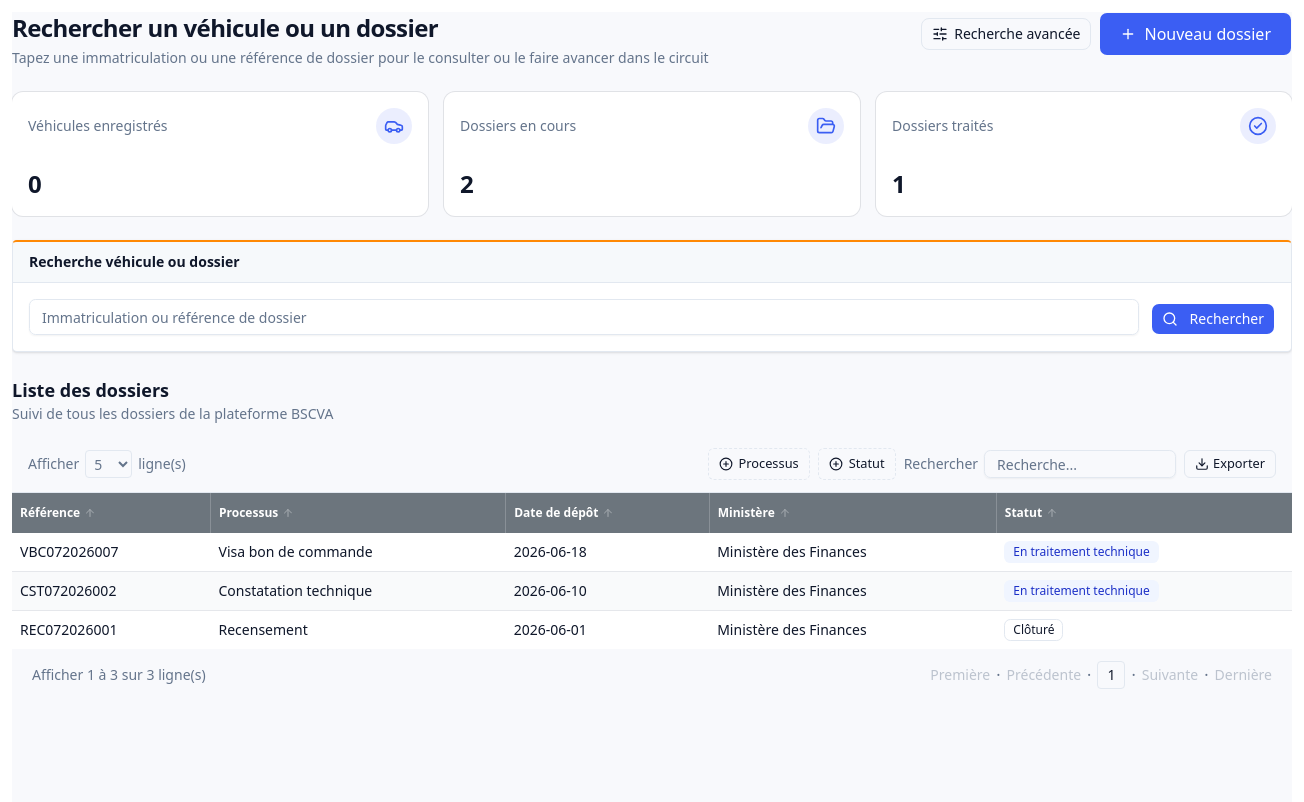
it: TraitementDossierPage — recherche par référence unique › shows the dossier row and a Traiter button for a known reference
This screenshot has width=1304, height=802.
Type "CST072026002" into the field with test id "traitement-dossier-search-input". click: (584, 317)
box: left=29, top=299, right=1139, bottom=335
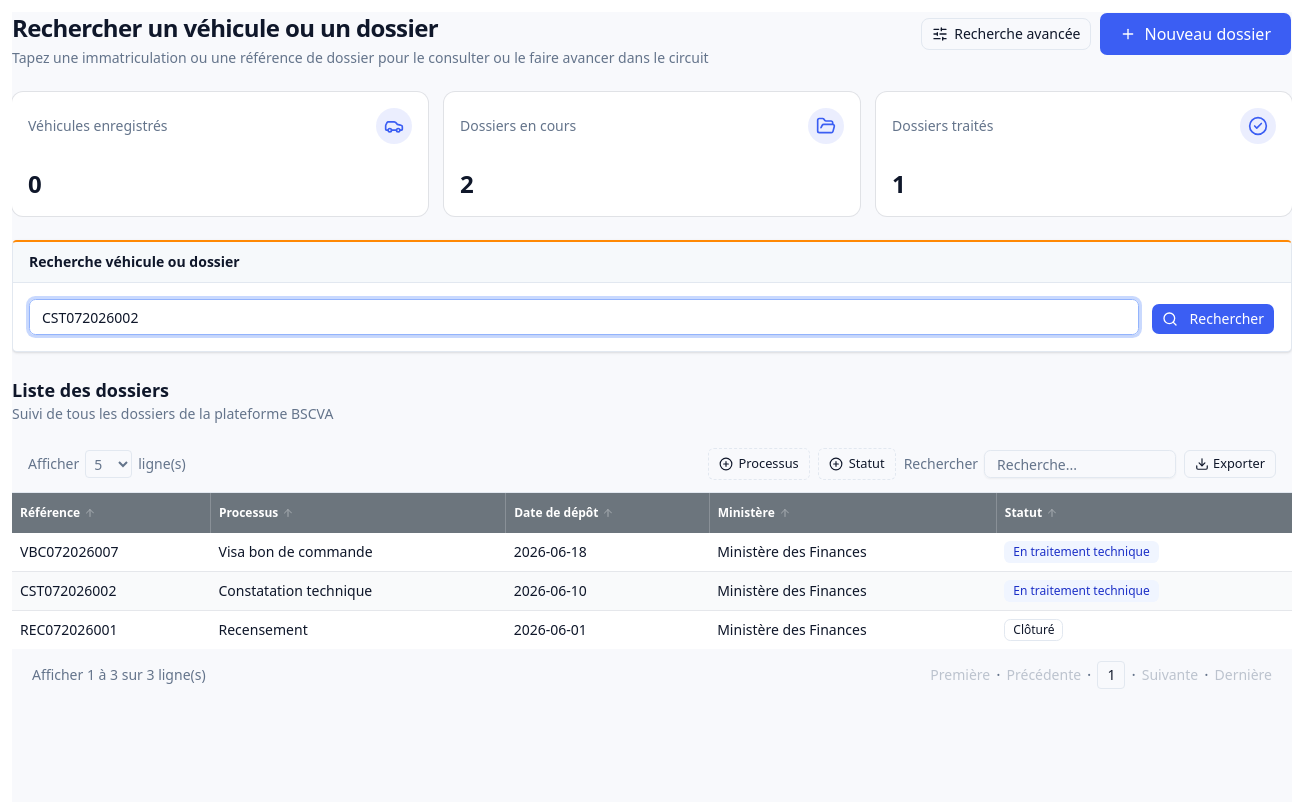
Click the button with test id "traitement-dossier-search-button". click: (1213, 319)
box: left=1151, top=303, right=1275, bottom=335
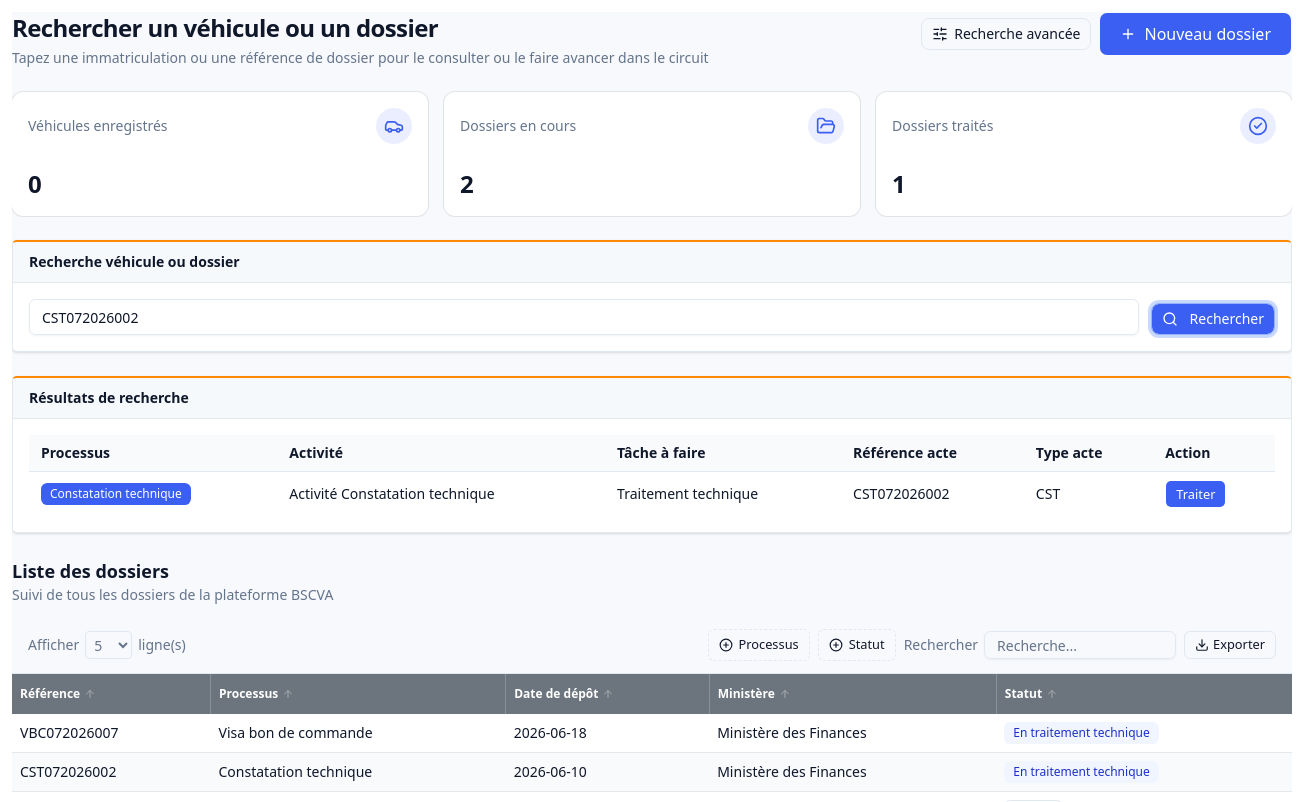
Expected: the row with test id "traitement-dossier-result-row" is shown, left=29, top=472, right=1275, bottom=516
Expected: the button with test id "traitement-dossier-traiter-button" is shown, left=1165, top=480, right=1226, bottom=508
